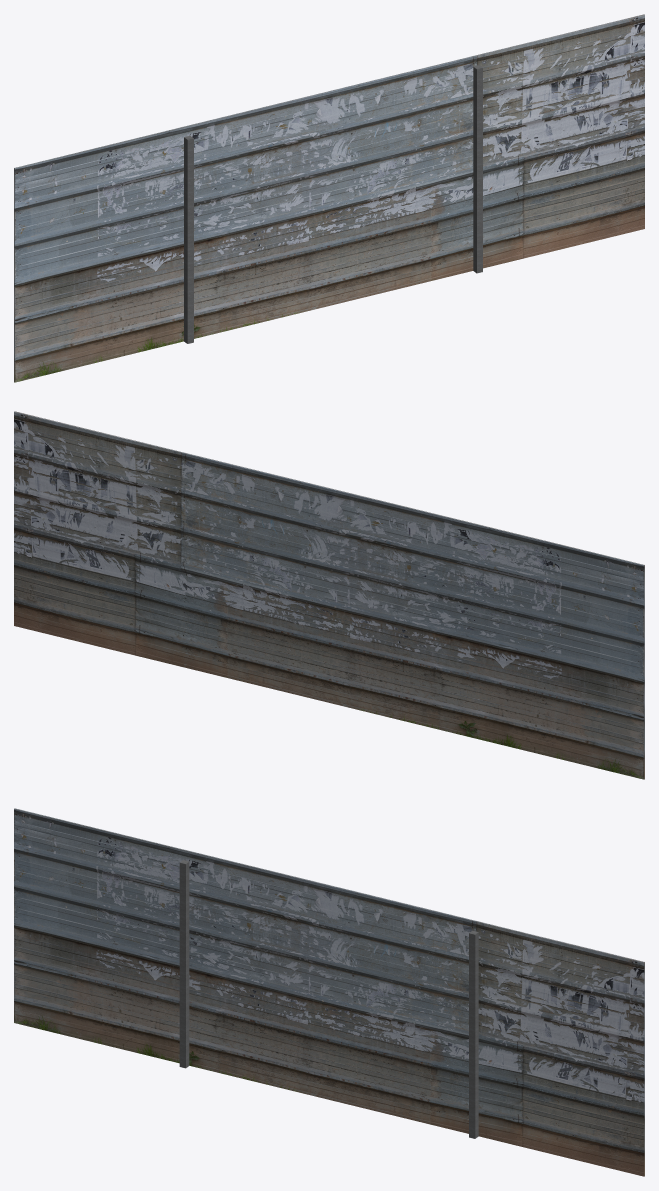
File: MetallFence07.FBX
3 views of the same model, one above another, from view 1: azimuth 30°, elevation 25°; view 2: azimuth 150°, elevation 25°; view 3: azimuth 330°, elevation 25° (orthographic).
Visible parts, largest first — view 1: MetallFence07, MetalFenceMetal03a; view 2: MetallFence07; view 3: MetallFence07, MetalFenceMetal03a.
Part boxes in pixels (x1,y1,x2,y2): MetallFence07: (14, 14, 644, 382); MetalFenceMetal03a: (184, 65, 482, 343); MetallFence07: (14, 411, 644, 779); MetallFence07: (14, 808, 644, 1176); MetalFenceMetal03a: (179, 860, 478, 1138).
Bounding box in the file's own units: 542 × 176 × 6.49.
